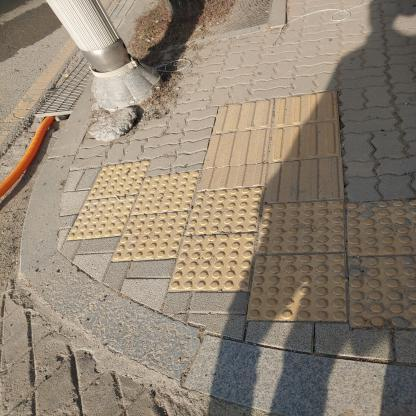podotacti: (64, 93, 415, 336)
